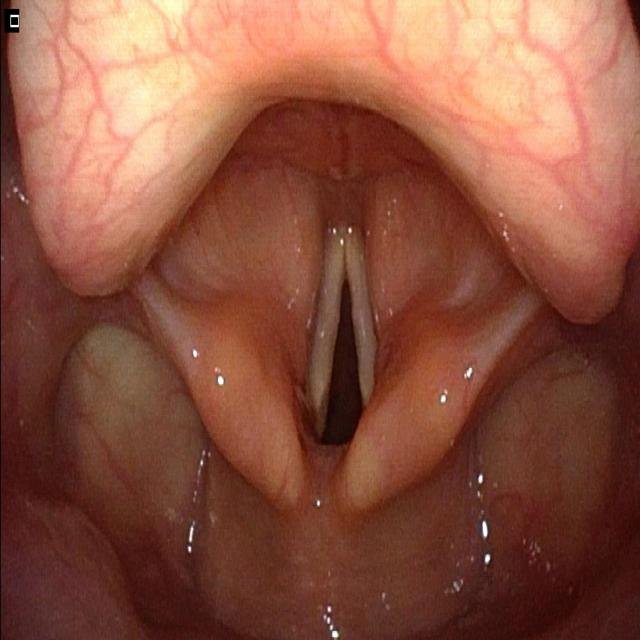arytenoid cartilagerotation: (132, 268, 541, 522)
epiglottisrotation: (4, 1, 640, 330)
larynxrotation: (304, 218, 382, 450)
